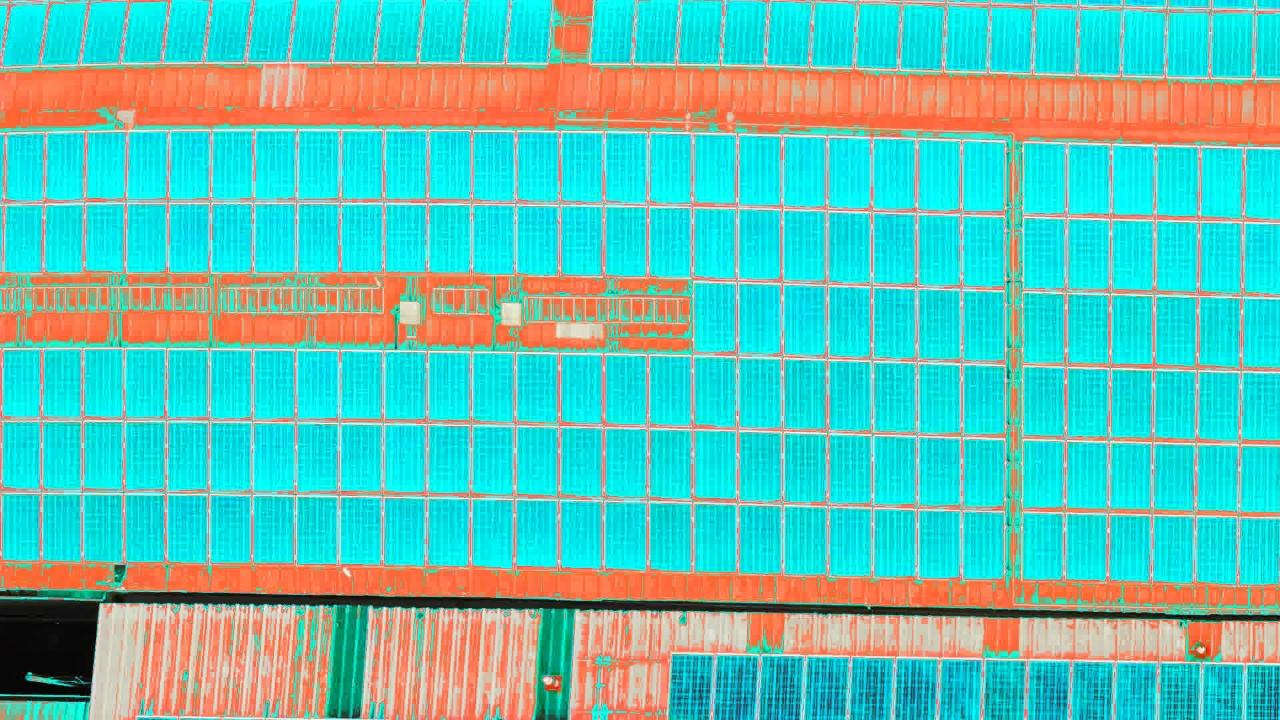dirty: (2, 347, 1020, 578), (2, 128, 1001, 288), (1024, 291, 1280, 579), (592, 2, 1280, 77), (1030, 140, 1280, 295), (2, 1, 554, 66), (692, 281, 1008, 362)
